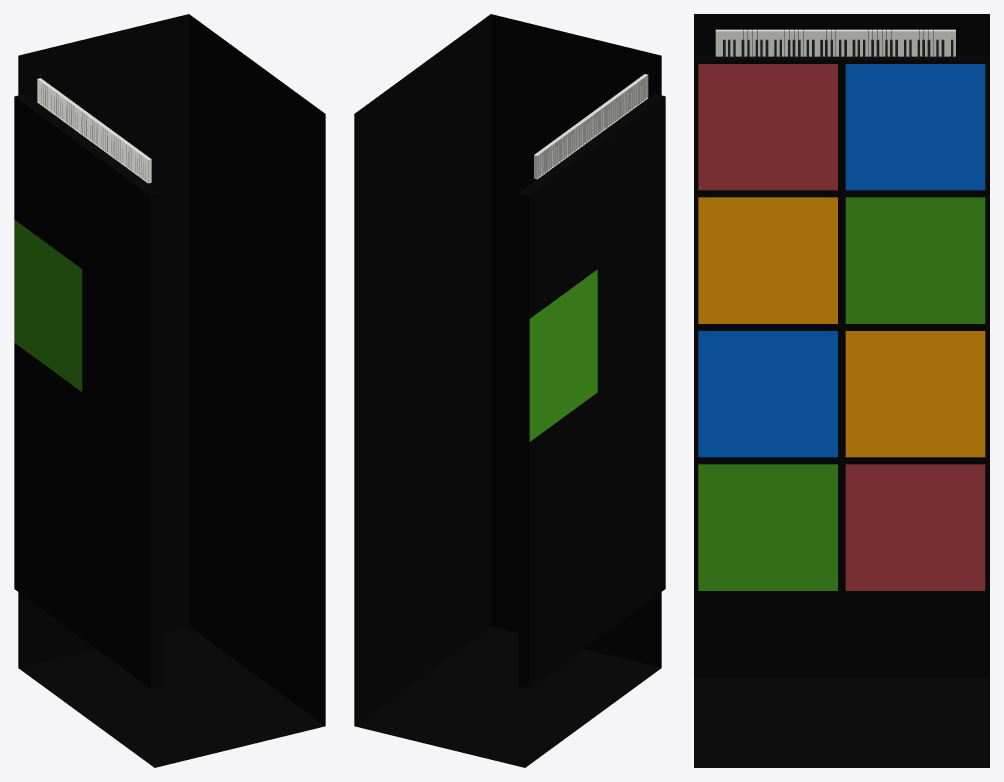
Rendered from piano.fbx.
3 renders of one model, left to right at view 1: azimuth 30°, elevation 25°; view 2: azimuth 150°, elevation 25°; view 3: azimuth 270°, elevation 25°, orthographic. The views are drawn at different scales.
Parts seen in each view (by area): view 1: Room, TileRed.004, TileRed.005, TileRed.006, TileRed.007, TileRed, TileRed.002, TileRed.003, TileRed.001; view 2: Room, TileRed, TileRed.001, TileRed.002, TileRed.003, TileRed.004, TileRed.005, TileRed.007, TileRed.006; view 3: Room, TileRed.004, TileRed, TileRed.006, TileRed.005, TileRed.007, TileRed.001, TileRed.002, TileRed.003.
Part boxes in pixels (x1=…): Room: x1=18, y1=14, x2=325, y2=767; TileRed.004: x1=82, y1=143, x2=161, y2=318; TileRed.005: x1=82, y1=269, x2=161, y2=441; TileRed.006: x1=82, y1=393, x2=161, y2=565; TileRed.007: x1=82, y1=516, x2=161, y2=688; TileRed: x1=14, y1=94, x2=92, y2=268; TileRed.002: x1=14, y1=343, x2=82, y2=515; TileRed.003: x1=14, y1=466, x2=82, y2=638; TileRed.001: x1=14, y1=220, x2=82, y2=391; Room: x1=354, y1=14, x2=661, y2=767; TileRed: x1=518, y1=143, x2=597, y2=318; TileRed.001: x1=518, y1=269, x2=597, y2=441; TileRed.002: x1=518, y1=392, x2=597, y2=565; TileRed.003: x1=518, y1=516, x2=597, y2=688; TileRed.004: x1=587, y1=93, x2=665, y2=268; TileRed.005: x1=597, y1=220, x2=665, y2=391; TileRed.007: x1=597, y1=466, x2=665, y2=638; TileRed.006: x1=597, y1=343, x2=665, y2=514; Room: x1=694, y1=14, x2=989, y2=767; TileRed.004: x1=694, y1=56, x2=841, y2=193; TileRed: x1=842, y1=56, x2=988, y2=193; TileRed.006: x1=694, y1=327, x2=841, y2=460; TileRed.005: x1=694, y1=194, x2=841, y2=327; TileRed.007: x1=694, y1=461, x2=841, y2=594; TileRed.001: x1=842, y1=194, x2=988, y2=327; TileRed.002: x1=842, y1=327, x2=988, y2=460; TileRed.003: x1=842, y1=461, x2=988, y2=594.
Bounding box in the file's own units: 146 × 360 × 108.
